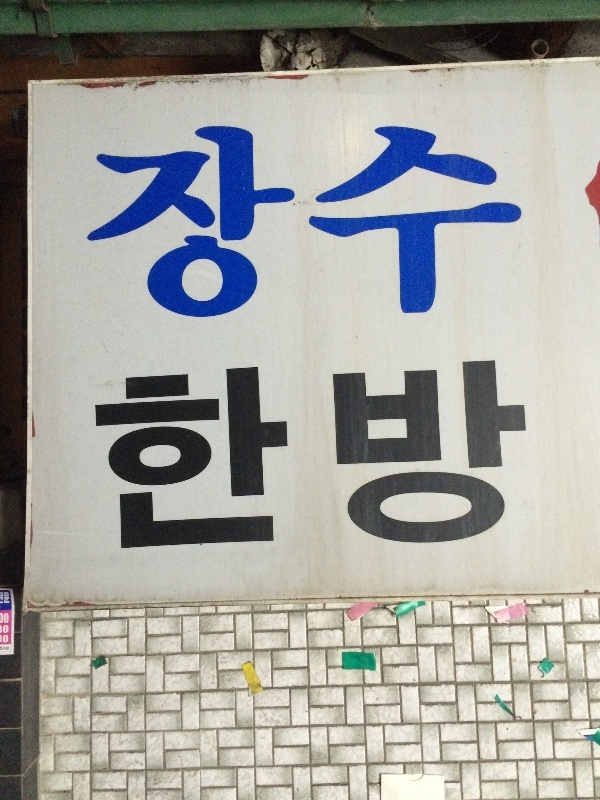text: (97, 121, 112, 356), (113, 121, 128, 356), (129, 121, 144, 356), (145, 121, 160, 356), (161, 121, 176, 356), (177, 121, 192, 356), (193, 121, 208, 356), (209, 121, 224, 356), (225, 121, 240, 356), (241, 121, 256, 356), (257, 121, 272, 356), (273, 121, 288, 356), (289, 121, 304, 356), (305, 121, 320, 356), (321, 121, 336, 356), (337, 121, 352, 356), (353, 121, 368, 356), (369, 121, 384, 356), (385, 121, 400, 356), (401, 121, 416, 356), (417, 121, 432, 356), (433, 121, 448, 356), (449, 121, 464, 356), (465, 121, 480, 356), (481, 121, 496, 356), (497, 121, 512, 356), (97, 358, 112, 555), (113, 358, 128, 555), (129, 358, 144, 555), (145, 358, 160, 555), (161, 358, 176, 555), (177, 358, 192, 555), (193, 358, 208, 555), (209, 358, 224, 555), (225, 358, 240, 555), (241, 358, 256, 555), (257, 358, 272, 555), (273, 358, 288, 555), (289, 358, 304, 555), (305, 358, 320, 555), (321, 358, 336, 555), (337, 358, 352, 555), (353, 358, 368, 555), (369, 358, 384, 555), (385, 358, 400, 555), (401, 358, 416, 555), (417, 358, 432, 555), (433, 358, 448, 555), (449, 358, 464, 555), (465, 358, 480, 555), (481, 358, 496, 555), (497, 358, 512, 555), (513, 358, 528, 555), (513, 121, 525, 356), (90, 121, 96, 356), (94, 358, 96, 555), (529, 358, 531, 555), (1, 612, 16, 624), (1, 592, 16, 604), (4, 592, 16, 605), (1, 625, 16, 634), (3, 634, 16, 644), (1, 647, 16, 651)
